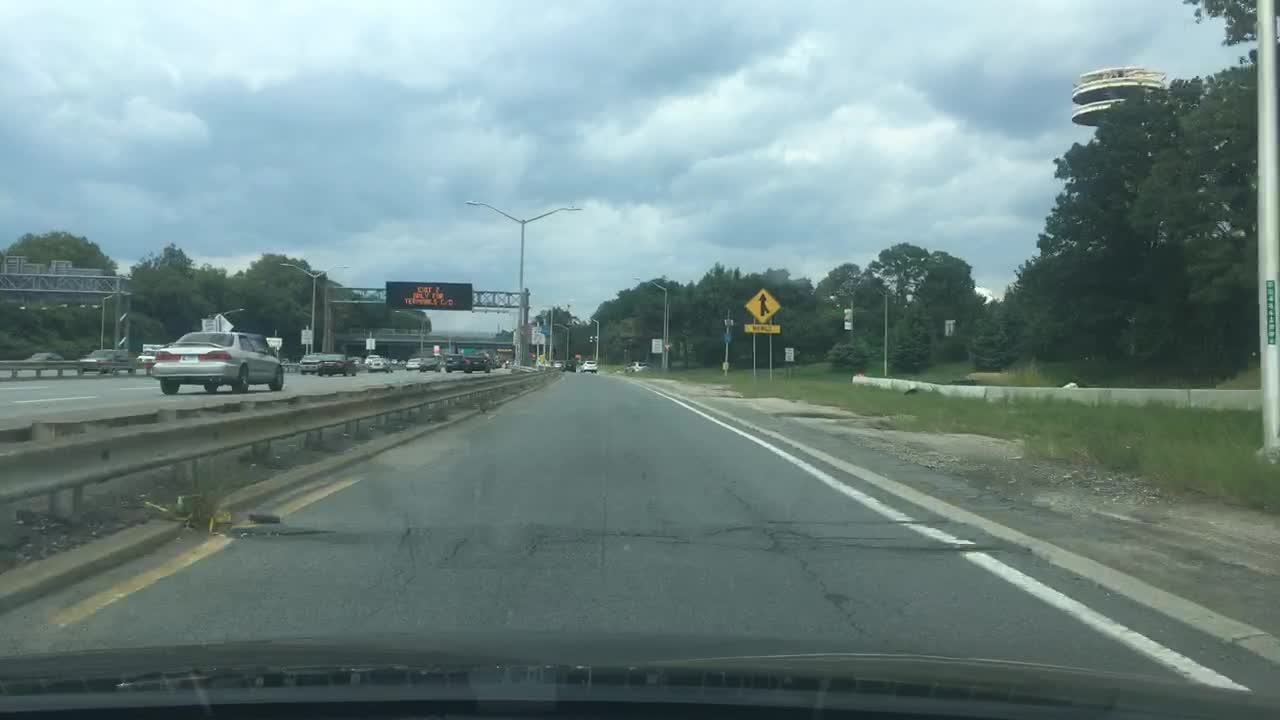car: (149, 329, 286, 395), (76, 347, 135, 374), (314, 352, 358, 377), (299, 350, 324, 375), (21, 350, 65, 361), (469, 350, 490, 373), (445, 353, 467, 373), (417, 356, 444, 372), (624, 360, 654, 373), (581, 357, 598, 374), (137, 349, 157, 363), (561, 357, 577, 374), (366, 354, 384, 368), (405, 358, 422, 371), (490, 355, 504, 368), (535, 358, 551, 368), (551, 359, 564, 369), (350, 355, 364, 364), (396, 359, 408, 369), (389, 358, 399, 369)
traffic sign: (381, 279, 474, 312), (745, 287, 782, 322), (0, 263, 49, 275), (49, 266, 105, 276), (212, 313, 235, 332), (744, 323, 782, 334), (298, 328, 315, 347), (263, 335, 283, 349), (199, 317, 217, 332), (5, 253, 28, 263), (49, 257, 72, 267), (651, 337, 662, 354), (364, 336, 376, 351), (785, 346, 795, 363), (530, 333, 544, 345), (723, 330, 734, 343), (843, 319, 855, 330), (723, 316, 735, 326), (722, 359, 731, 371)
